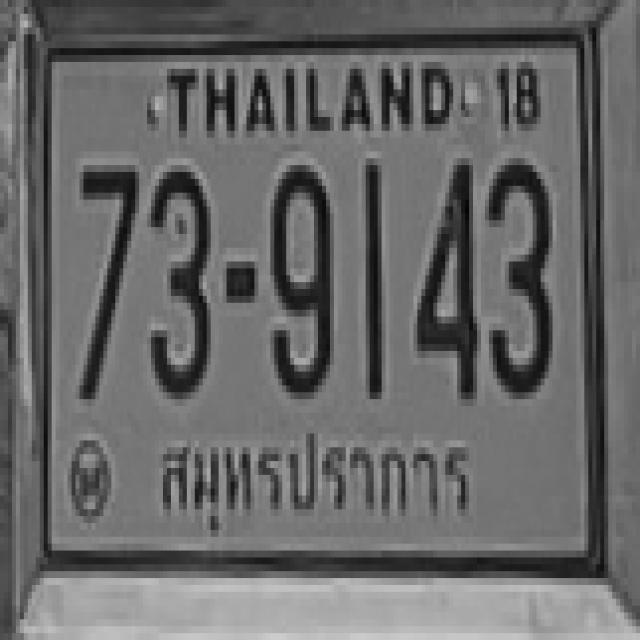1: (362, 155, 382, 396)
3: (485, 152, 549, 392), (147, 165, 207, 392)
4: (413, 155, 473, 396)
7: (78, 158, 137, 399)
9: (270, 158, 330, 392)
SamutPrakan: (150, 424, 478, 547)
